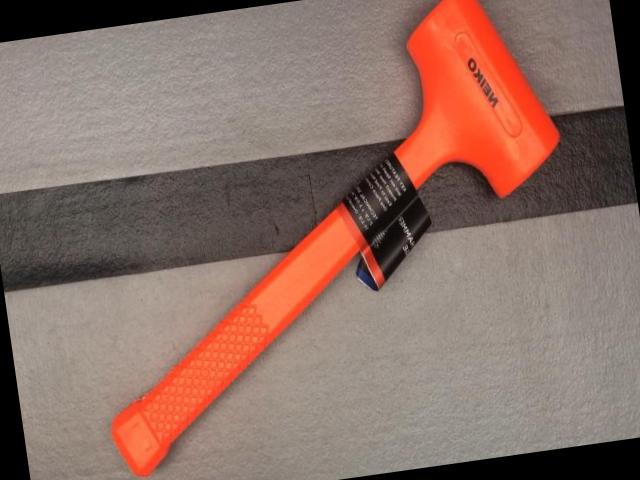hammer: (54, 0, 601, 480)
